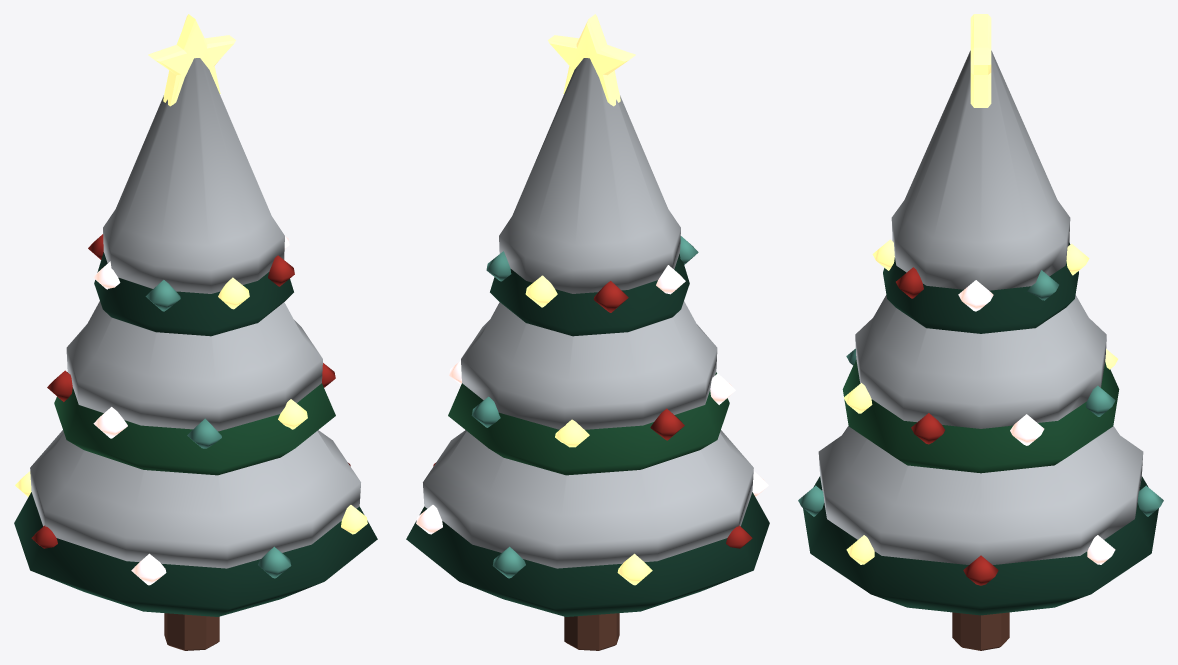
File: big_tree.glb
3 renders of one model, left to right at view 1: azimuth 30°, elevation 25°; view 2: azimuth 150°, elevation 25°; view 3: azimuth 270°, elevation 25°, orthographic.
Parts seen in each view (by area): view 1: big_tree; view 2: big_tree; view 3: big_tree.
Boxes of the visible parts, bbox=[...] form: big_tree: bbox=[14, 14, 377, 650]; big_tree: bbox=[406, 14, 769, 650]; big_tree: bbox=[798, 14, 1163, 650].
Bounding box in the file's own units: 6.45 × 12 × 6.36.
